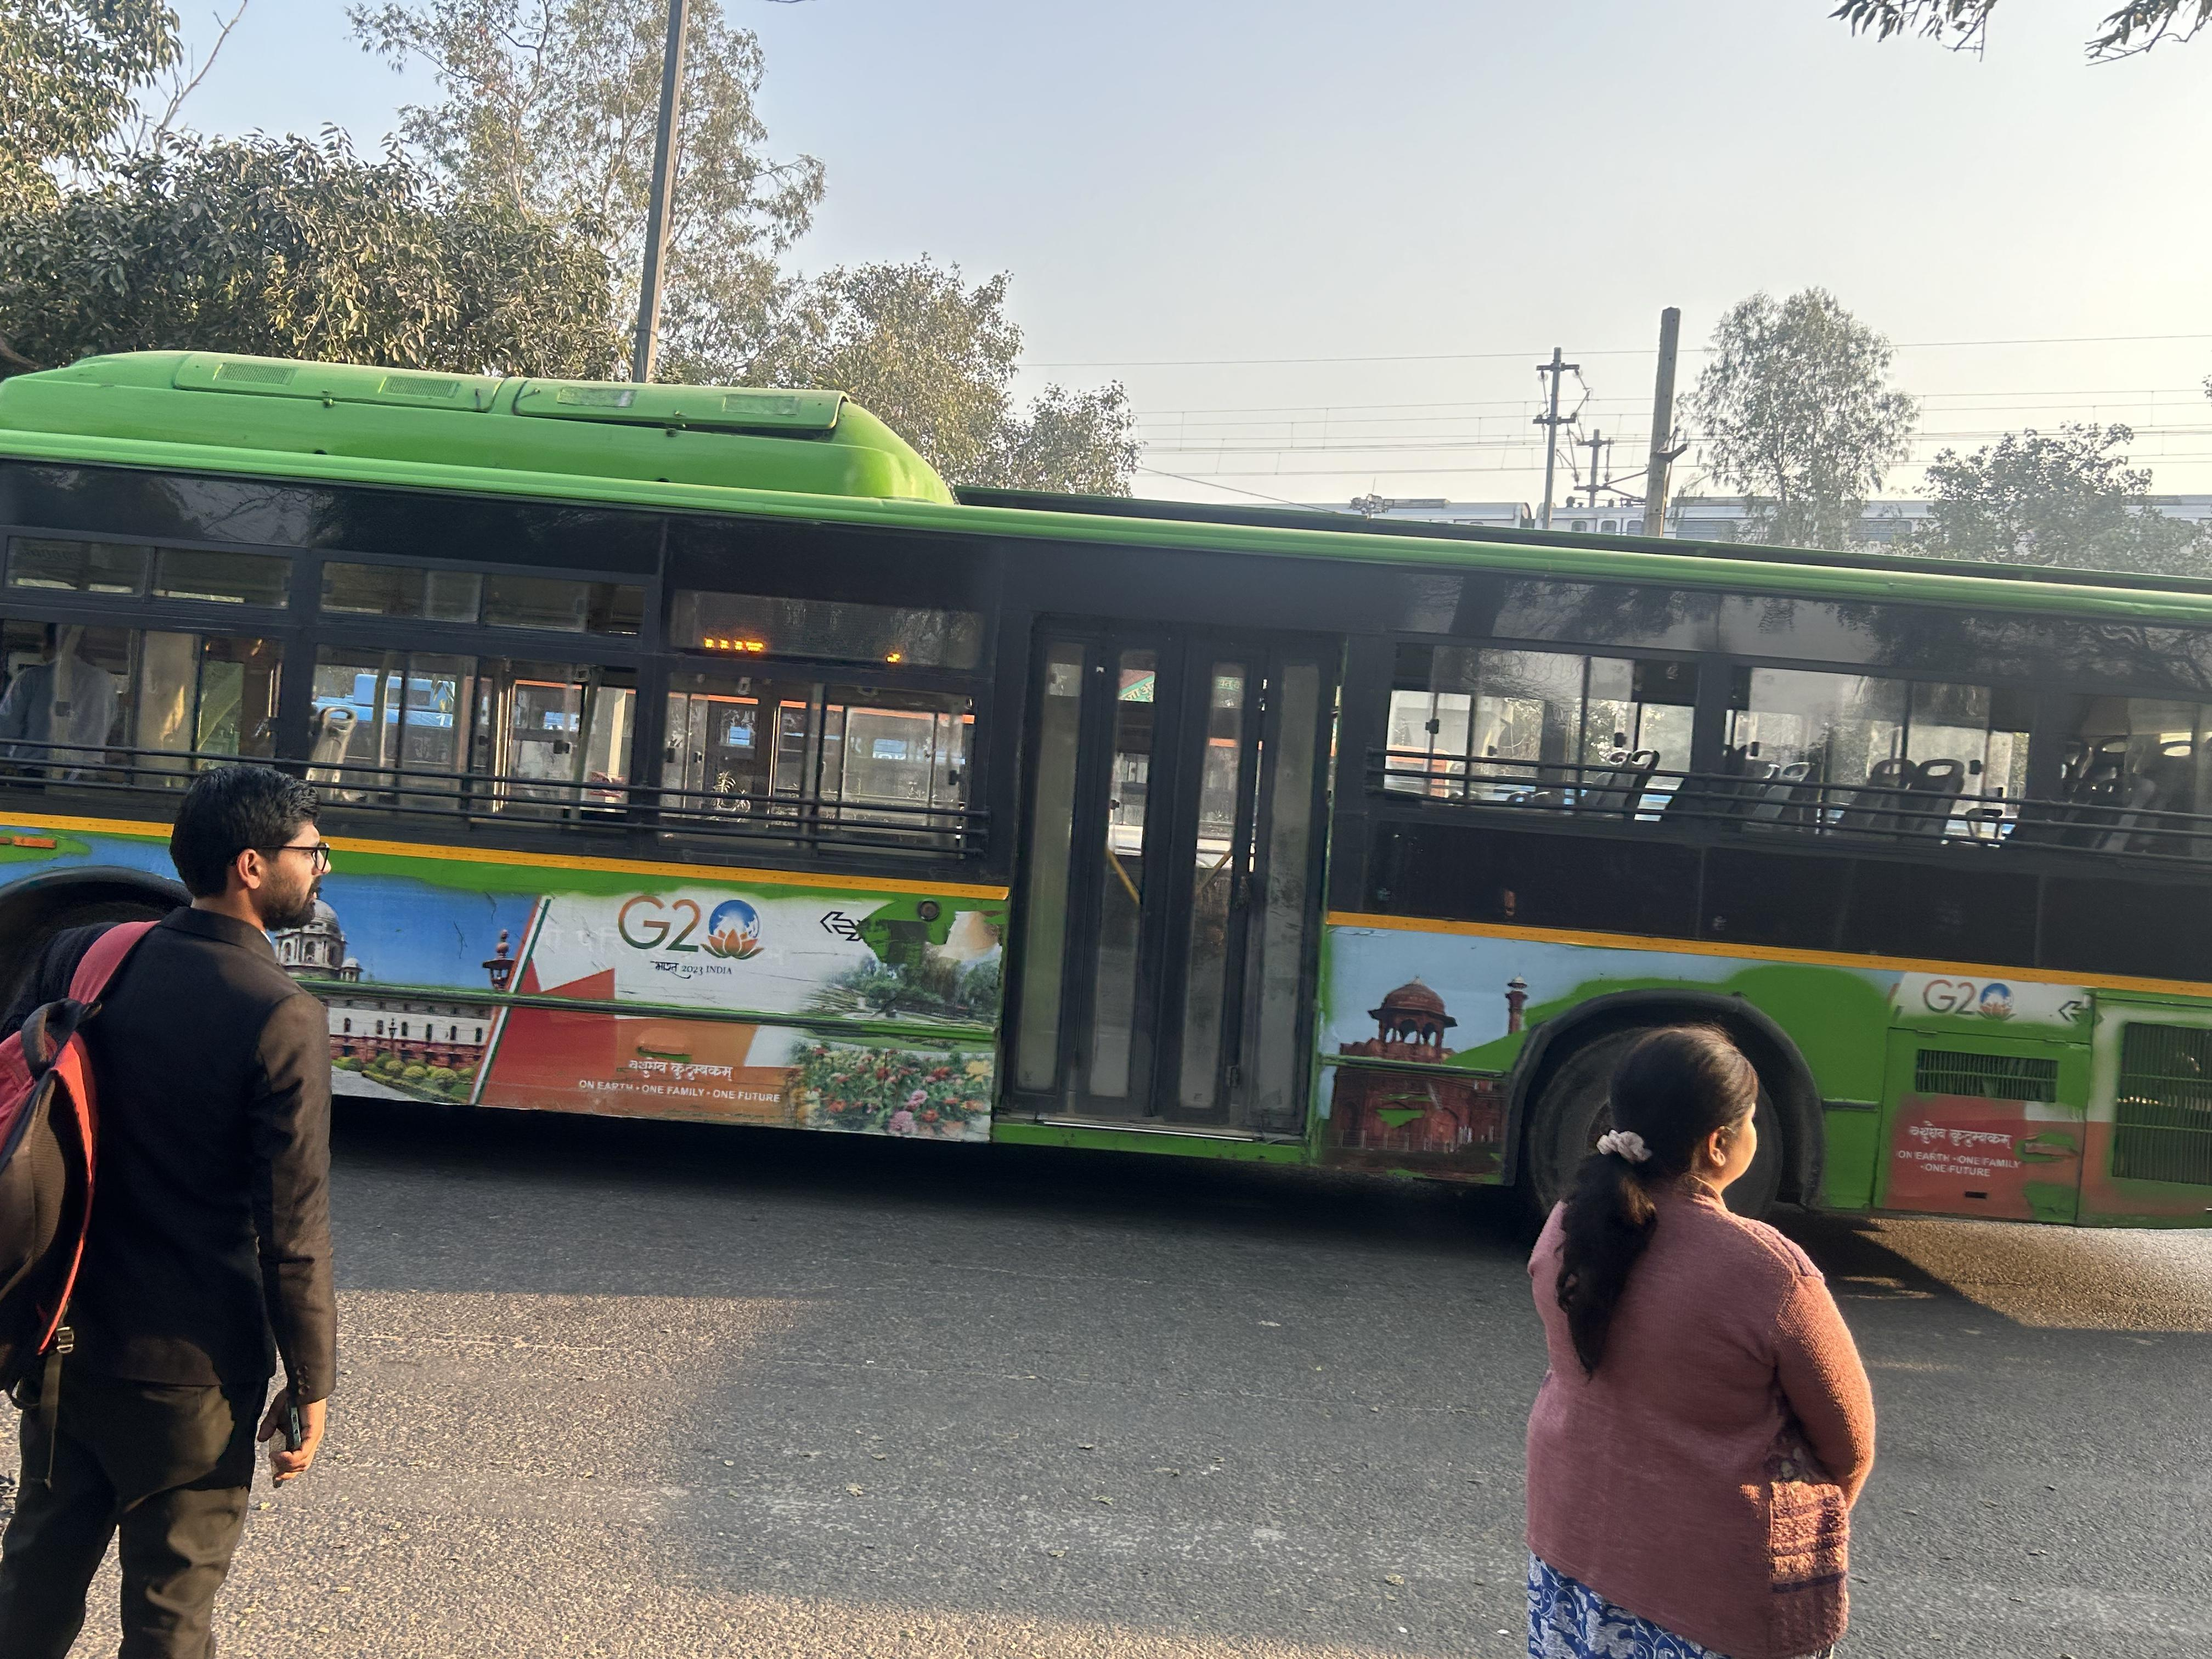Bus: (0, 319, 2212, 1290)
Display Board: (664, 559, 1015, 746)
